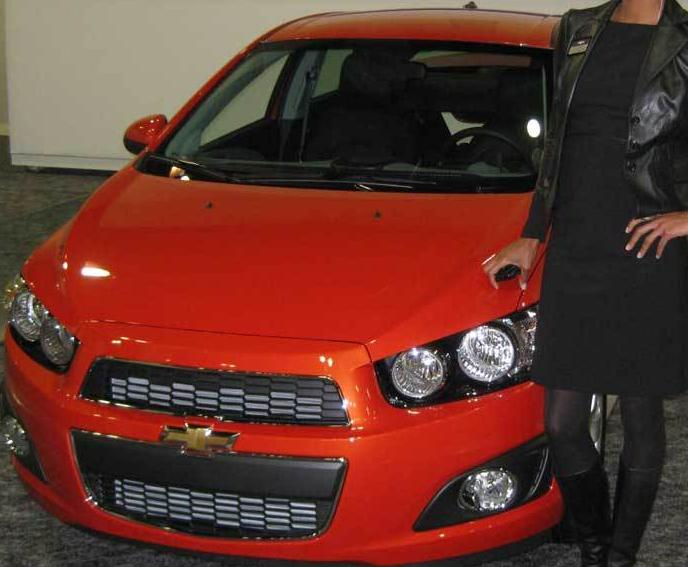front_view: (0, 263, 575, 556)
headlight: (374, 279, 548, 406)
